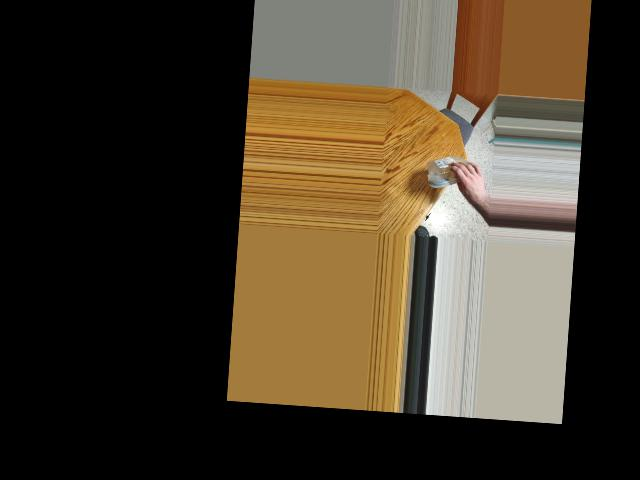cheese: (439, 156, 478, 191)
